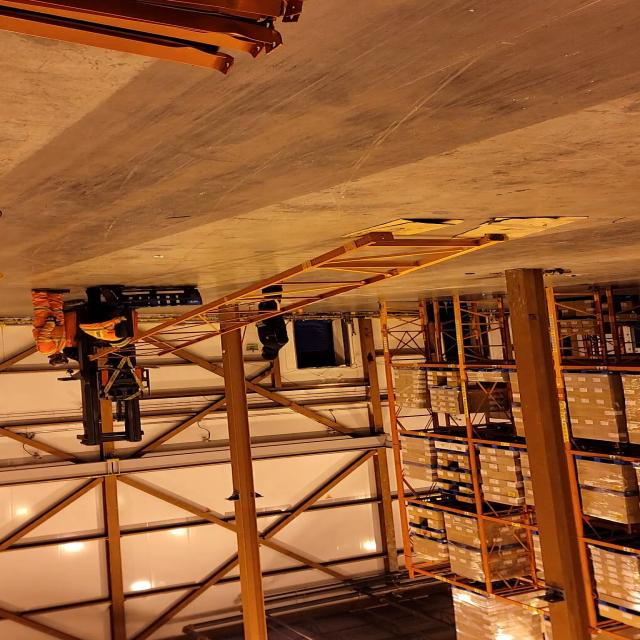forklift: (52, 295, 161, 441)
human: (76, 284, 148, 352), (235, 282, 292, 361), (29, 286, 72, 364), (61, 345, 106, 372)
objectofinterest: (88, 231, 512, 363), (441, 214, 589, 243), (337, 217, 473, 242), (100, 283, 204, 313)
